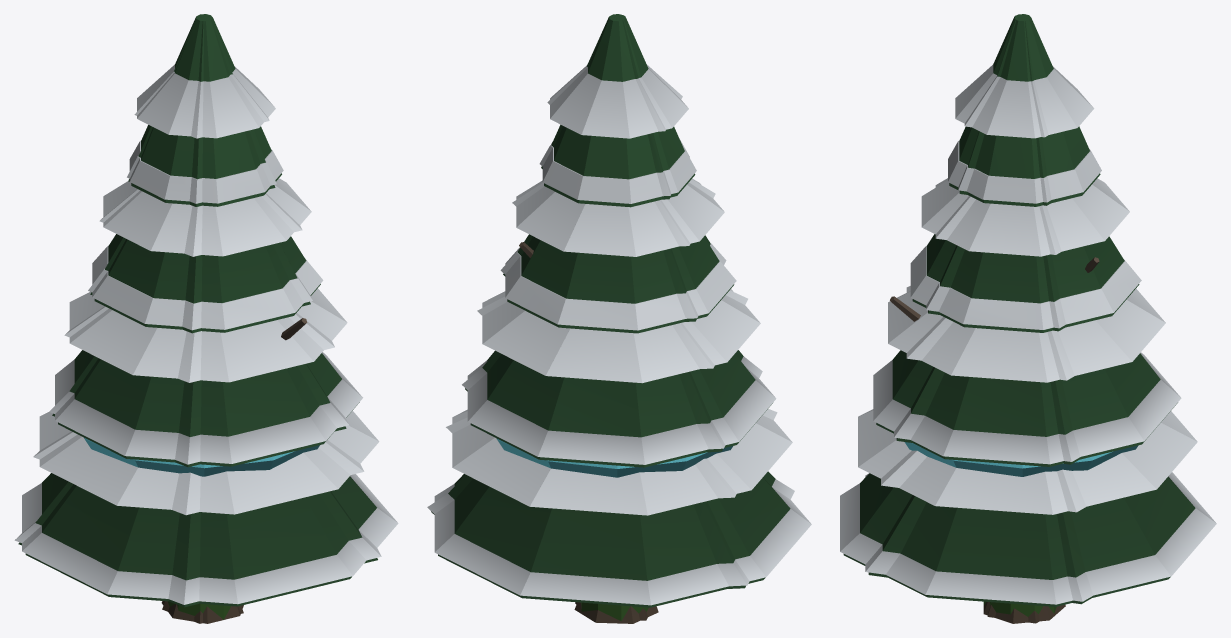
The model's file is trees.glb.
The picture shows the model from 3 angles, left to right: view 1: azimuth 30°, elevation 25°; view 2: azimuth 150°, elevation 25°; view 3: azimuth 270°, elevation 25°; orthographic projection.
Parts seen in each view (by area): view 1: tree_snowpine, tree_snowpine__lod, tree_glowshroom__glow, tree_dead; view 2: tree_snowpine, tree_snowpine__lod, tree_glowshroom__glow, tree_dead, tree_cactus; view 3: tree_snowpine, tree_snowpine__lod, tree_glowshroom__glow, tree_dead, tree_cactus.
Boxes of the visible parts, <box> form: tree_snowpine: <box>22,14,398,606</box>; tree_snowpine__lod: <box>14,14,381,607</box>; tree_glowshroom__glow: <box>83,437,319,476</box>; tree_dead: <box>161,318,307,623</box>; tree_snowpine: <box>434,14,811,607</box>; tree_snowpine__lod: <box>427,14,794,588</box>; tree_glowshroom__glow: <box>496,438,732,477</box>; tree_dead: <box>519,242,658,623</box>; tree_cactus: <box>581,602,648,621</box>; tree_snowpine: <box>840,14,1216,606</box>; tree_snowpine__lod: <box>865,14,1093,604</box>; tree_glowshroom__glow: <box>904,442,1138,476</box>; tree_dead: <box>890,257,1099,623</box>; tree_cactus: <box>983,601,1056,616</box>.
Bounding box in the file's own units: 4.42 × 7.5 × 4.35.
